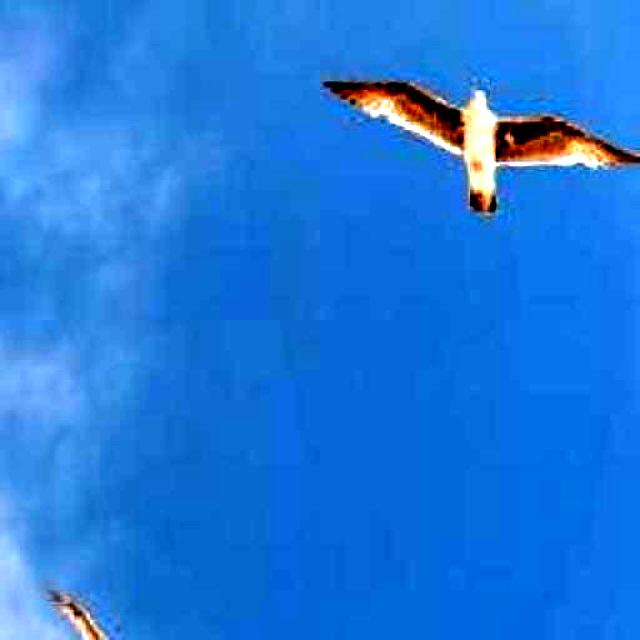airplane: (319, 71, 640, 219), (44, 586, 254, 640)
